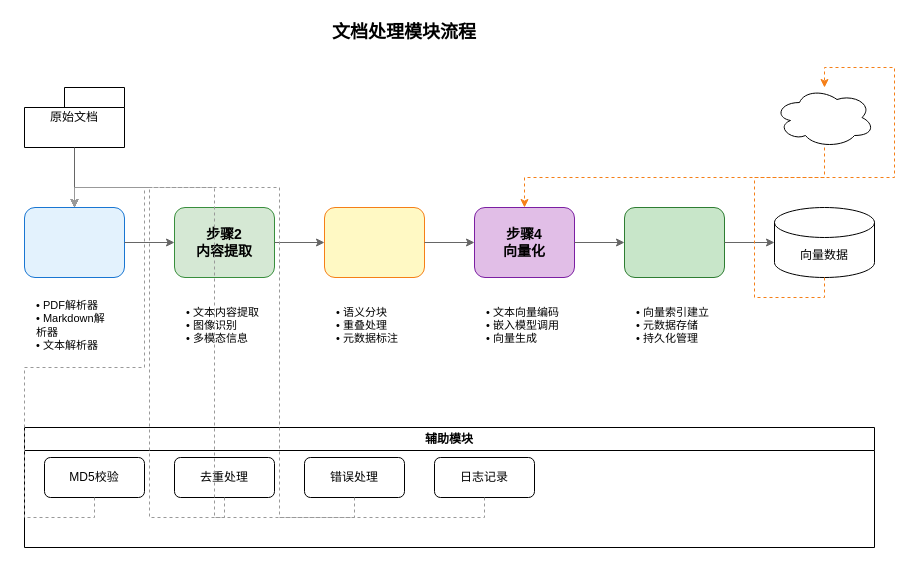
The diagram is 920 pixels wide and 565 high, and some of its shapes have lost their labels. The shapes that lost their labels are listed below. From the top down, each one's centre as x and y in pixels, then its label:
point 824,117: 向量数据库
point 74,242: 步骤1 文档解析
point 374,242: 步骤3 文本分块
point 674,242: 步骤5 索引存储
